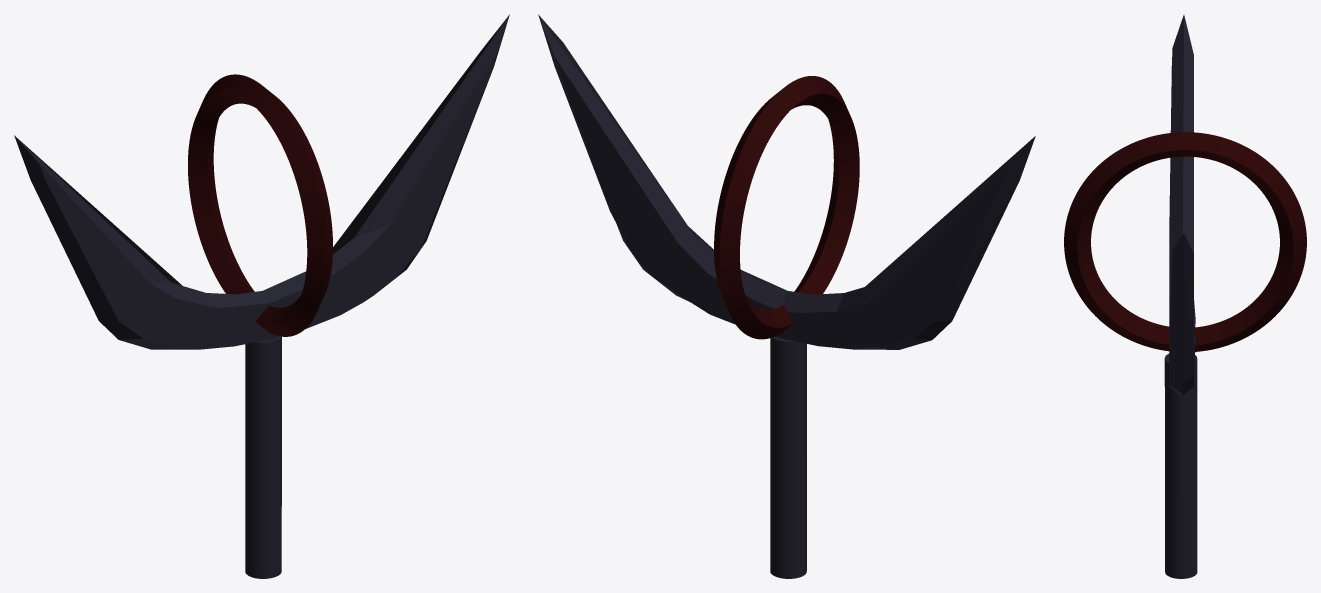
File: swordunder2.fbx
3 views of the same model, side by side, from view 1: azimuth 30°, elevation 25°; view 2: azimuth 150°, elevation 25°; view 3: azimuth 270°, elevation 25° (orthographic). The views are drawn at different scales.
Visible parts, largest first — view 1: Cube, Torus; view 2: Cube, Torus; view 3: Torus, Cube.
Part boxes in pixels (bbox=[...]): Cube: bbox=[14, 14, 509, 578]; Torus: bbox=[188, 74, 332, 336]; Cube: bbox=[538, 14, 1035, 578]; Torus: bbox=[714, 76, 859, 339]; Torus: bbox=[1064, 132, 1306, 351]; Cube: bbox=[1164, 15, 1197, 578].
Bounding box in the file's own units: 384 × 367 × 180.
